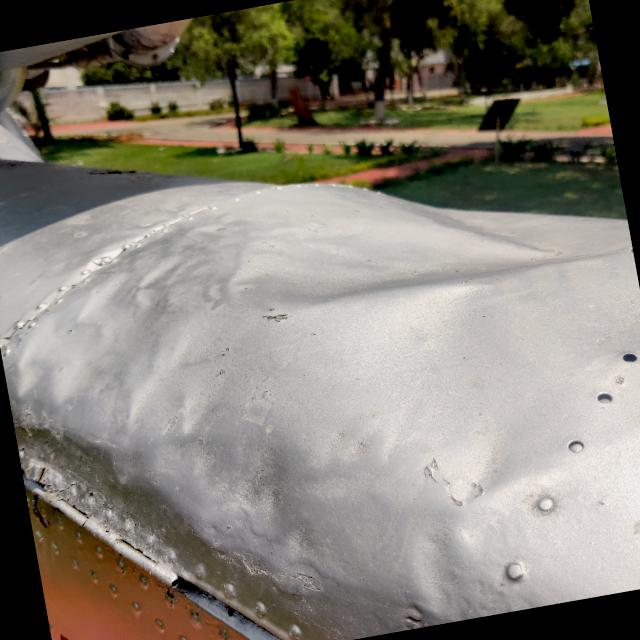dent: (204, 122, 624, 365), (0, 239, 213, 475), (132, 365, 330, 571), (382, 496, 500, 630), (424, 410, 562, 520)
